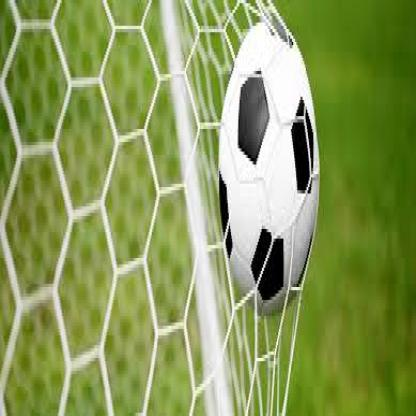ball: (218, 19, 321, 319)
